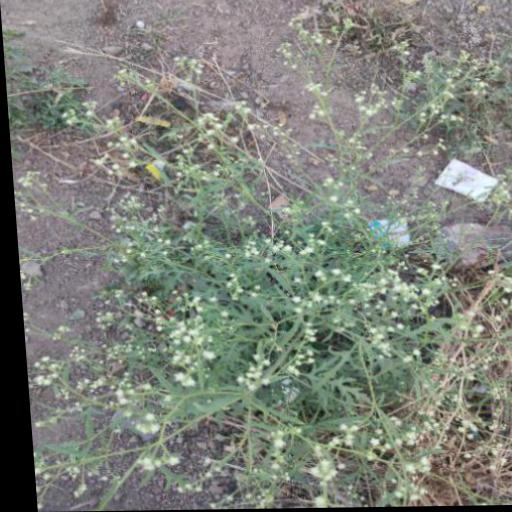weed: (141, 226, 512, 492), (85, 31, 445, 203)
